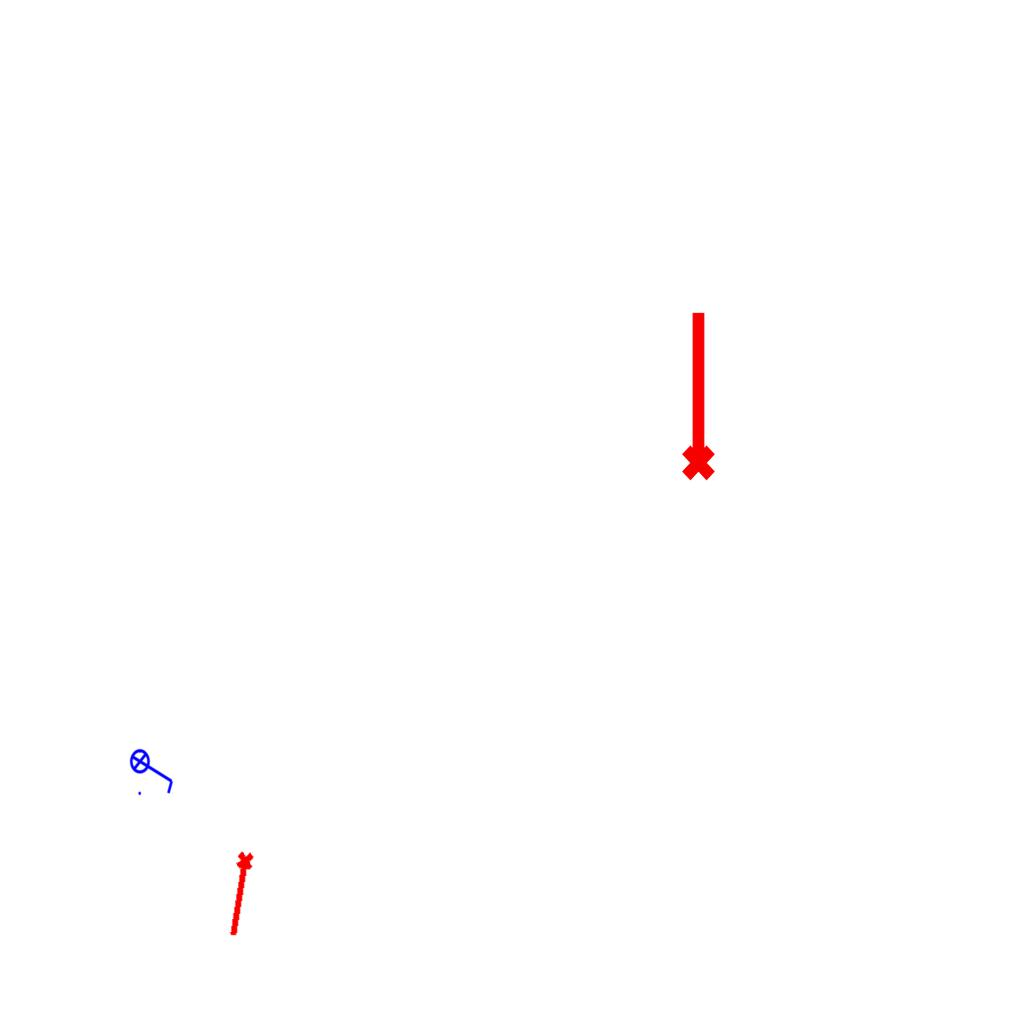ASR_Ansaugoeffnung: (673, 307, 719, 483), (222, 849, 260, 940)
Ausschalter_beleuchtet: (129, 742, 177, 798)
